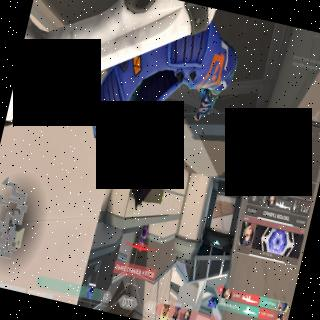ENEMY-BODY: (135, 222, 149, 252)
